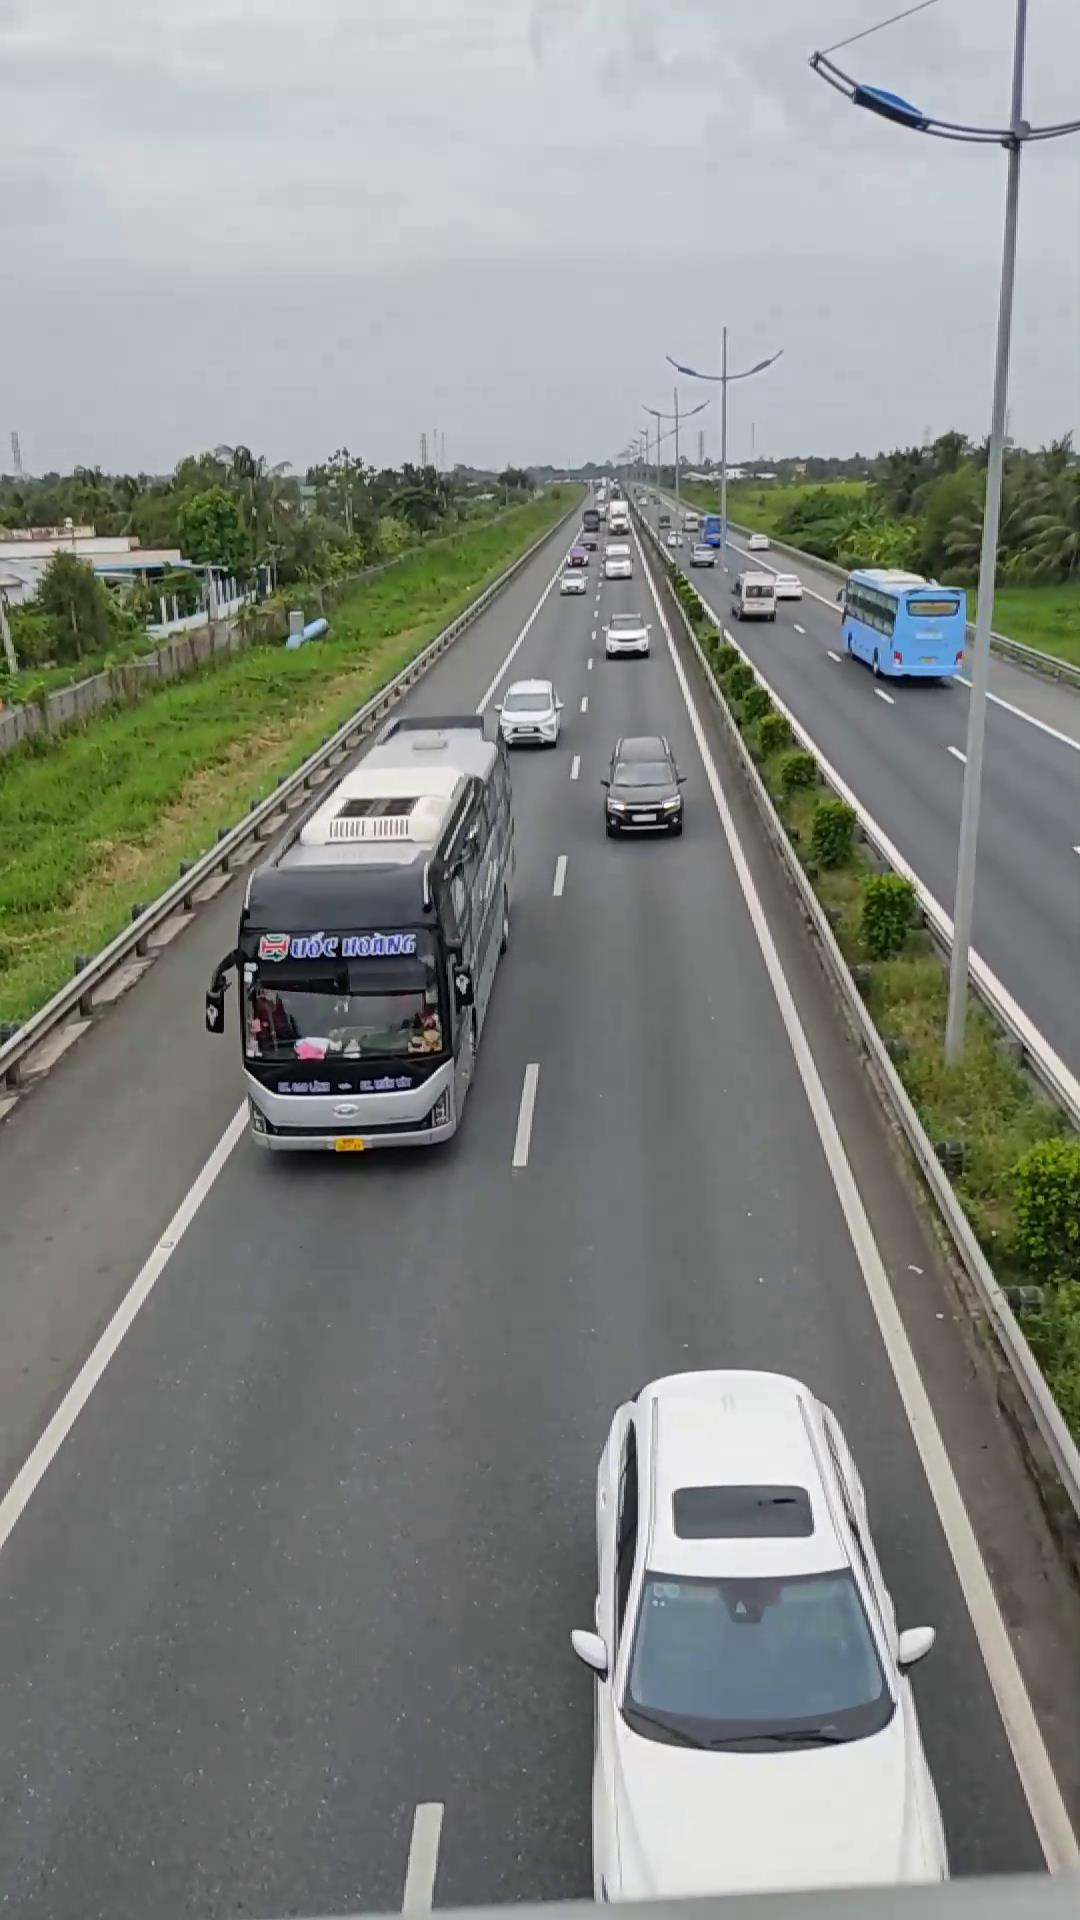car: (573, 1367, 954, 1891), (222, 705, 519, 1146), (600, 736, 687, 838), (487, 678, 564, 747)
